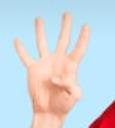right: (9, 10, 91, 112)
